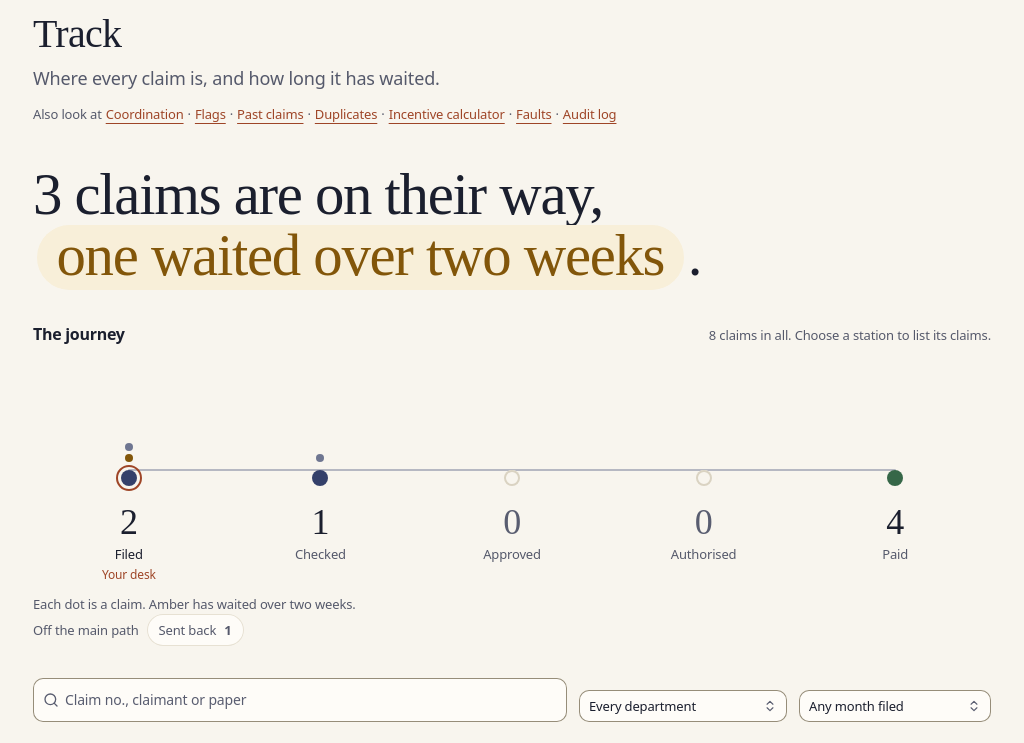
Test: Track › asks the server for a stage when its column is chosen
Step 1. Click the link "1 Checked" → (320, 554), box [295,454,427,602]
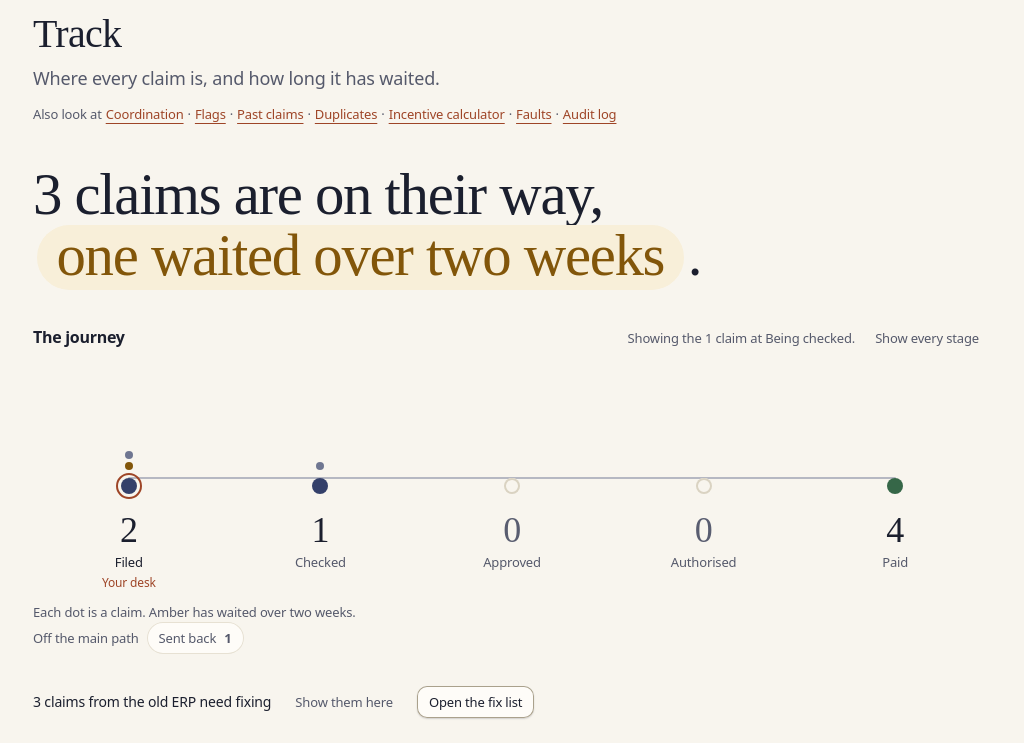
Expected: the text "Showing the 1 claim at Being checked." is shown, [628,328,855,348]
